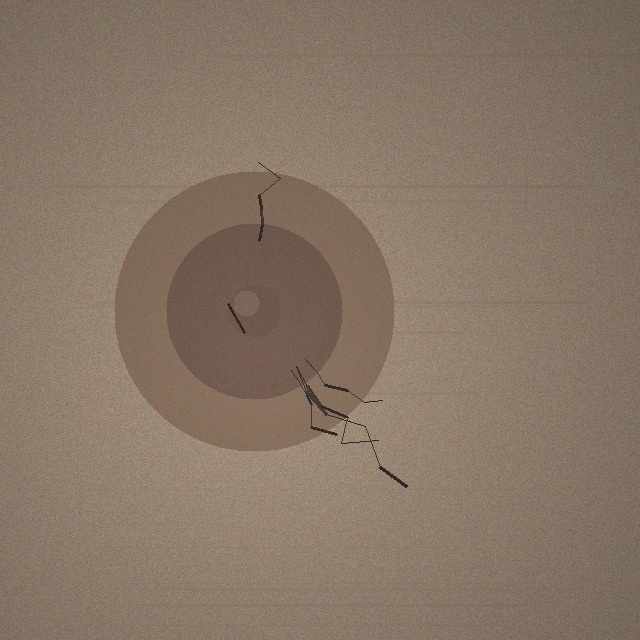crack: (114, 171, 394, 451)
